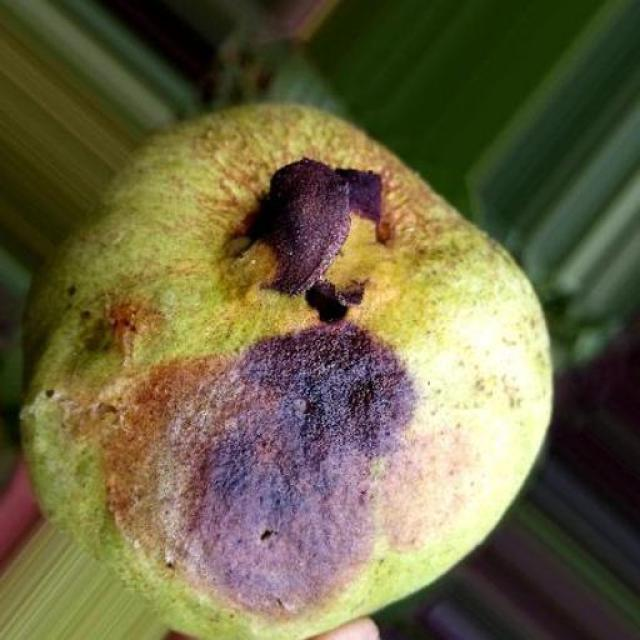Styler_Root: (22, 105, 551, 640)
